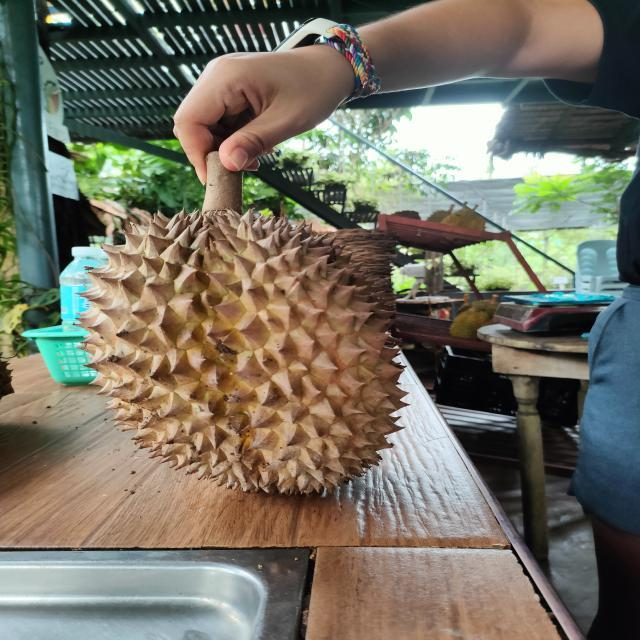mature: (80, 211, 405, 494)
